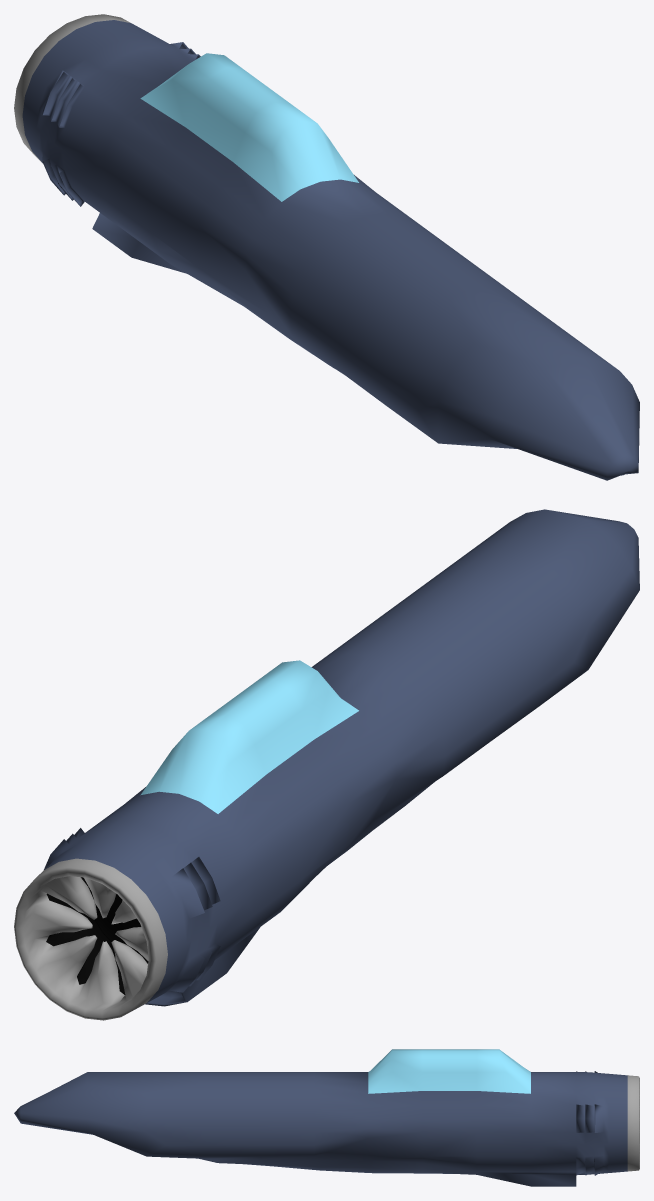
Rendered from Fuselage.obj.
The picture shows the model from 3 angles, top to bottom: view 1: azimuth 30°, elevation 25°; view 2: azimuth 150°, elevation 25°; view 3: azimuth 270°, elevation 25°; orthographic projection. The views are drawn at different scales.
Visible parts, largest first — view 1: Default, Glass, Engine; view 2: Default, Engine, Glass, EngineInternal; view 3: Default, Glass, Engine.
Part boxes in pixels (<box>): Default: <box>22,20,639,480</box>; Glass: <box>140,53,358,201</box>; Engine: <box>14,14,130,163</box>; Default: <box>44,509,639,1006</box>; Engine: <box>14,858,167,1020</box>; Glass: <box>140,660,358,813</box>; EngineInternal: <box>46,877,148,994</box>; Default: <box>14,1071,627,1186</box>; Glass: <box>368,1049,530,1093</box>; Engine: <box>627,1075,639,1171</box>.
Size of the model in its own units: 5.48 by 7.28 by 31.73.
